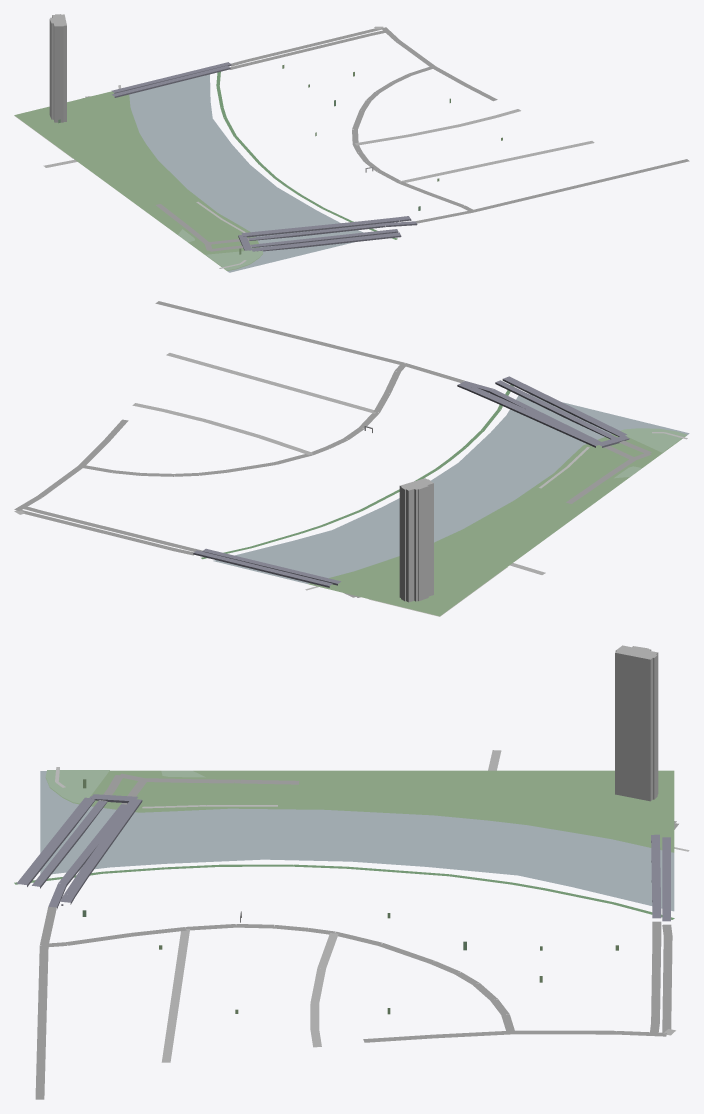
The picture shows the model from 3 angles, top to bottom: view 1: azimuth 30°, elevation 25°; view 2: azimuth 150°, elevation 25°; view 3: azimuth 270°, elevation 25°; orthographic projection. The views are drawn at different scales.
Size of the model in its own units: 655 by 124 by 533.
